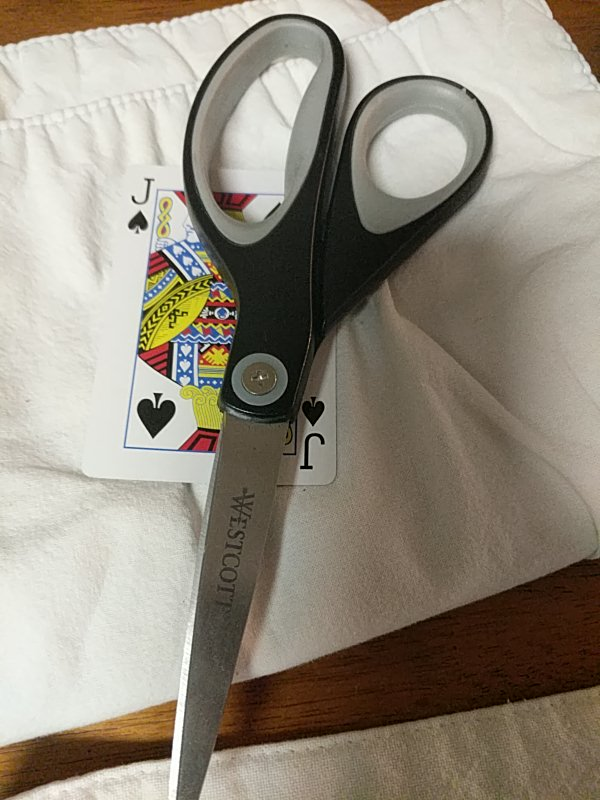Spades: (80, 164, 337, 481)
